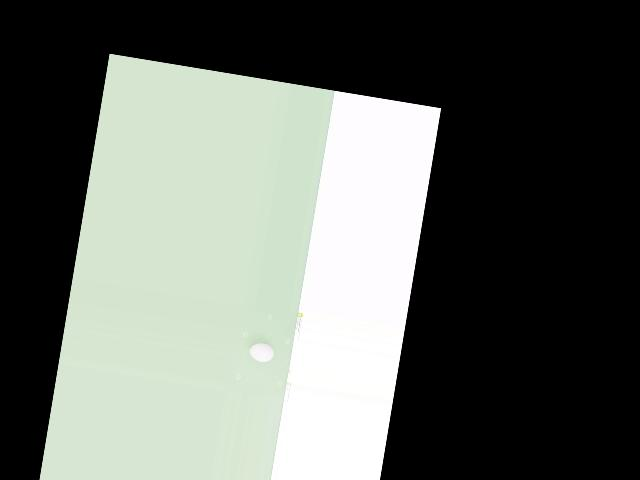egg: (248, 341, 275, 363)
